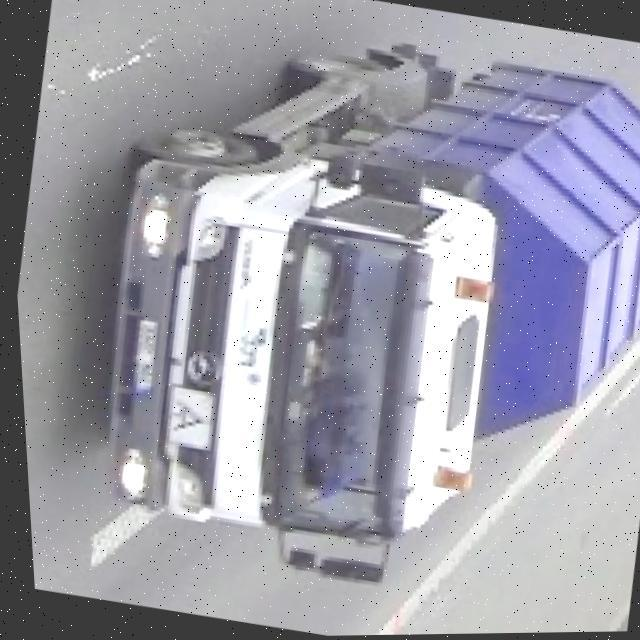truck: (55, 0, 640, 625)
